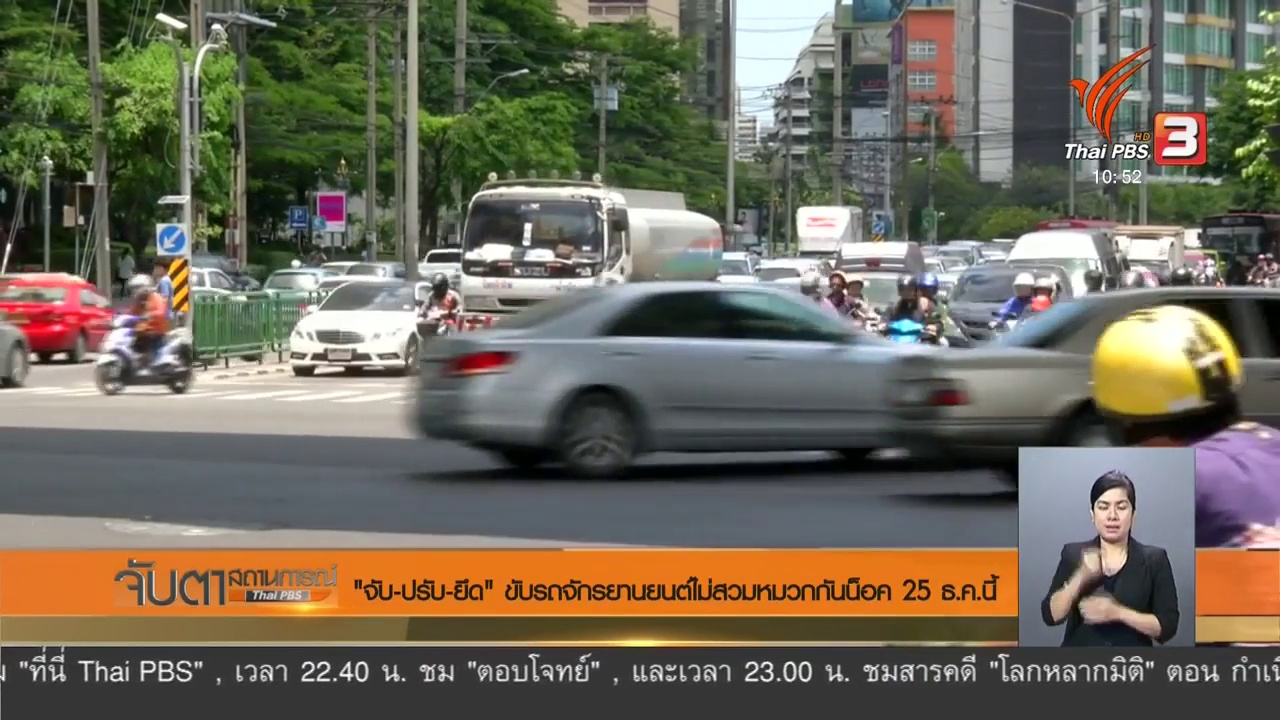helmet: (1077, 313, 1247, 424), (422, 265, 455, 299), (890, 268, 918, 294), (1003, 266, 1032, 290), (1027, 290, 1048, 314), (916, 275, 940, 296), (799, 272, 823, 292)
